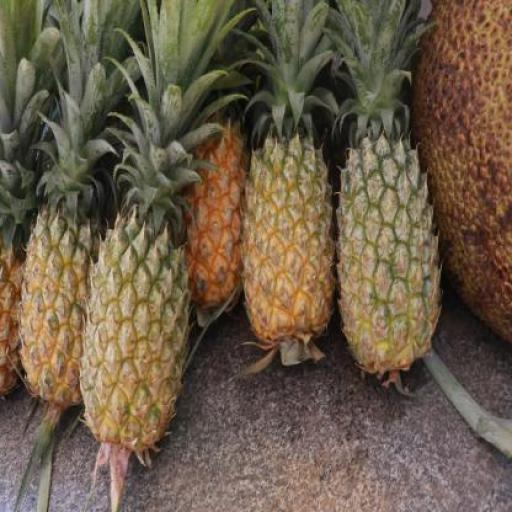------------------------------: (84, 218, 188, 442)
Pineapple - v8 v1: (241, 136, 334, 340), (18, 215, 99, 410), (186, 122, 252, 316)
